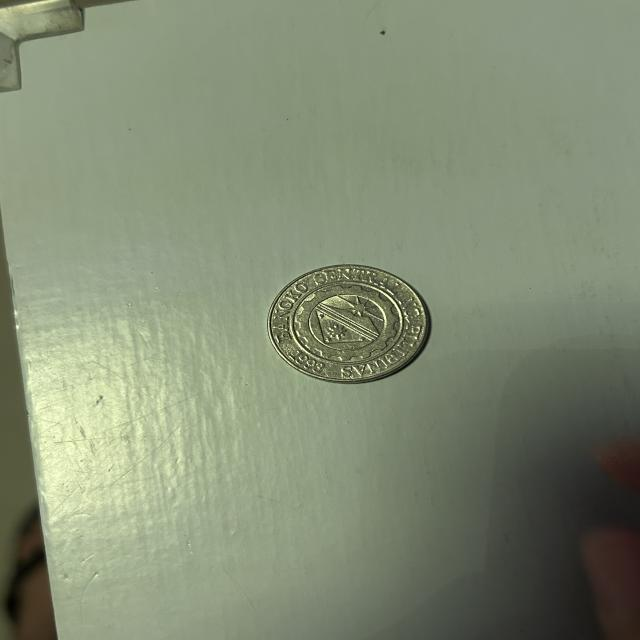1_Old_Back: (282, 278, 413, 367)
